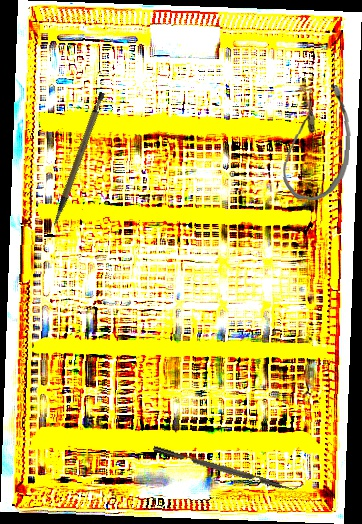Cannula: (281, 81, 354, 203)
Chopper: (152, 438, 305, 497)
Scalpel Handle: (32, 90, 122, 227)
